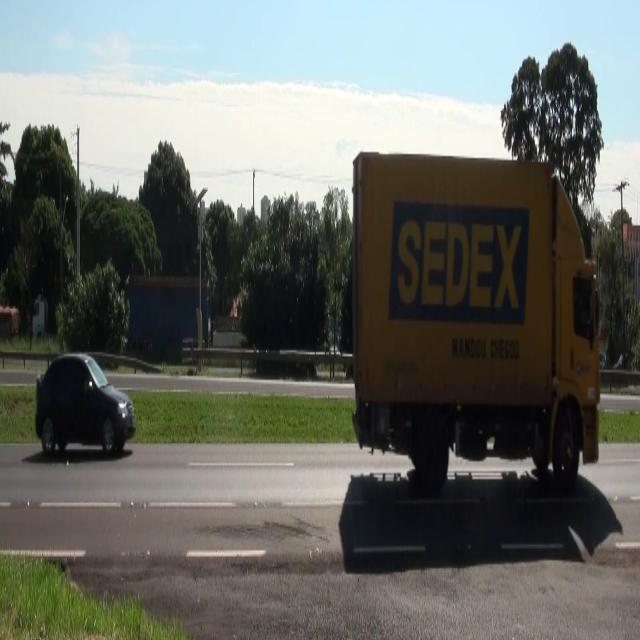-axle: (414, 417, 450, 497), (554, 410, 582, 492)
